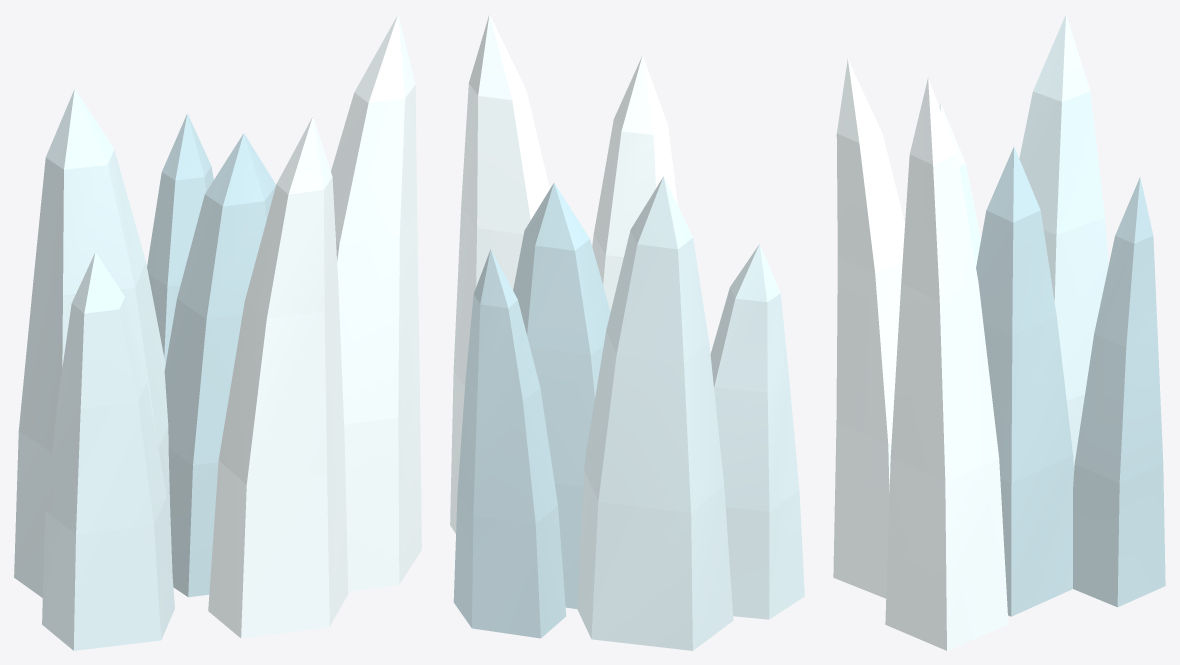
The model's file is glacier_shard.glb.
3 views of the same model, side by side, from view 1: azimuth 30°, elevation 25°; view 2: azimuth 150°, elevation 25°; view 3: azimuth 270°, elevation 25° (orthographic). The views are drawn at different scales.
Parts seen in each view (by area): view 1: glacier_shard; view 2: glacier_shard; view 3: glacier_shard.
Part boxes in pixels (<box>): glacier_shard: <box>14,14,421,650</box>; glacier_shard: <box>450,14,804,650</box>; glacier_shard: <box>833,14,1165,650</box>.
Size of the model in its own units: 1.8 by 2.6 by 1.4.
